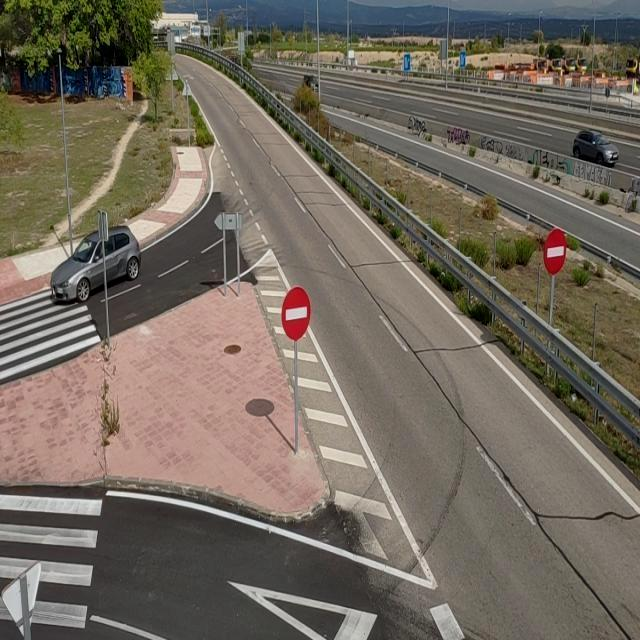Car: (39, 214, 155, 318), (557, 107, 620, 180), (297, 62, 328, 110)
